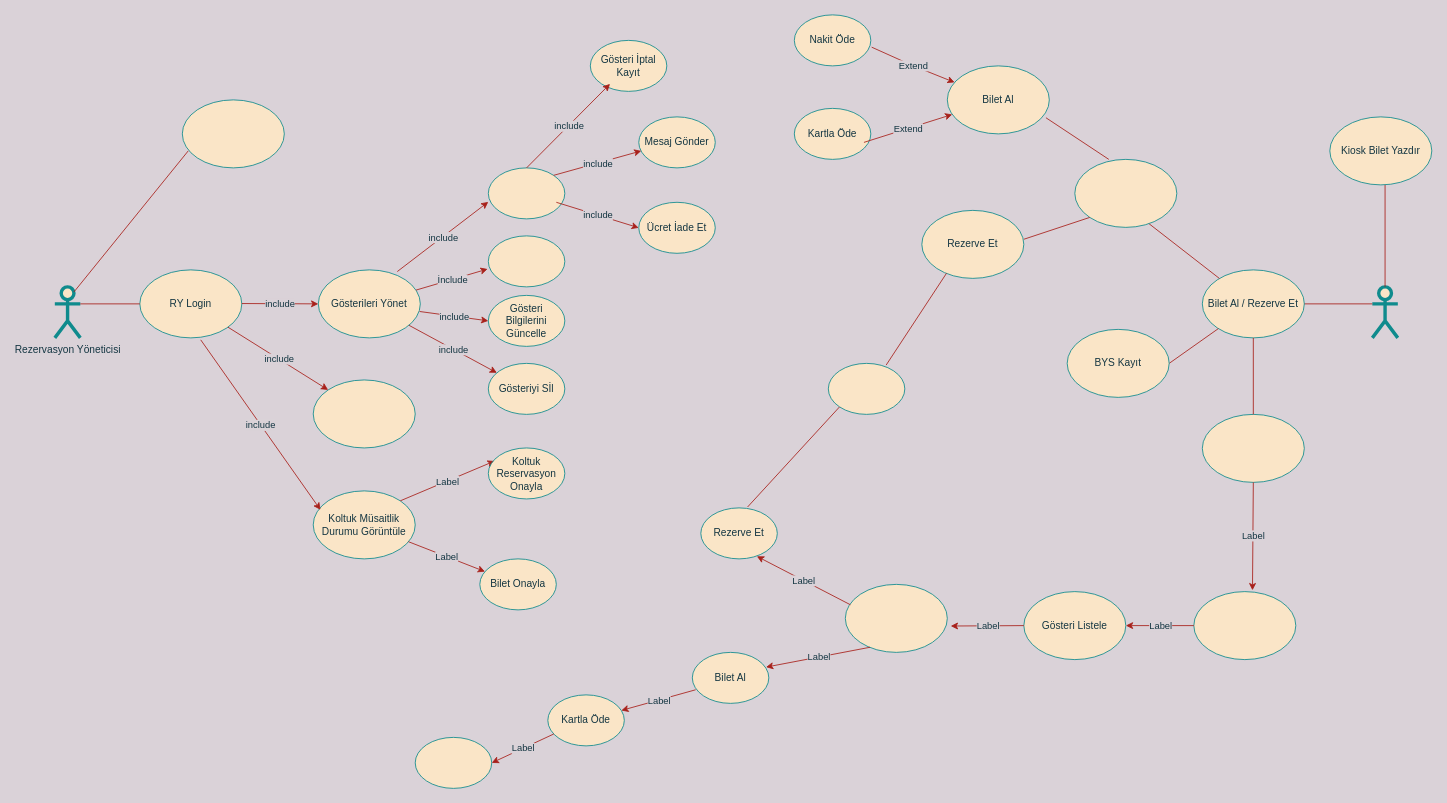
Some shapes in this 1447 by 803 pixel diagram are drawn without their labels. Each missing label, with the centre of its shape:
"Bilet Yazdır" belongs at (x=453, y=762).
"BYS Login" belongs at (x=1252, y=448).
"Gösteri Ekle" belongs at (x=526, y=261).
"Gösteri İptal Et" belongs at (x=526, y=193).
"Gösteri Raporu Üret" belongs at (x=363, y=413).
"Gösteri Sec" belongs at (x=895, y=618).
"İptal Et" belongs at (x=866, y=388).
"R. Masası Bilet Al/Rezerve Et" belongs at (x=1125, y=193).
"RY Kayıt" belongs at (x=232, y=133).
"Seyirci" belongs at (x=1384, y=312).
"Tarih Sec" belongs at (x=1244, y=625).
